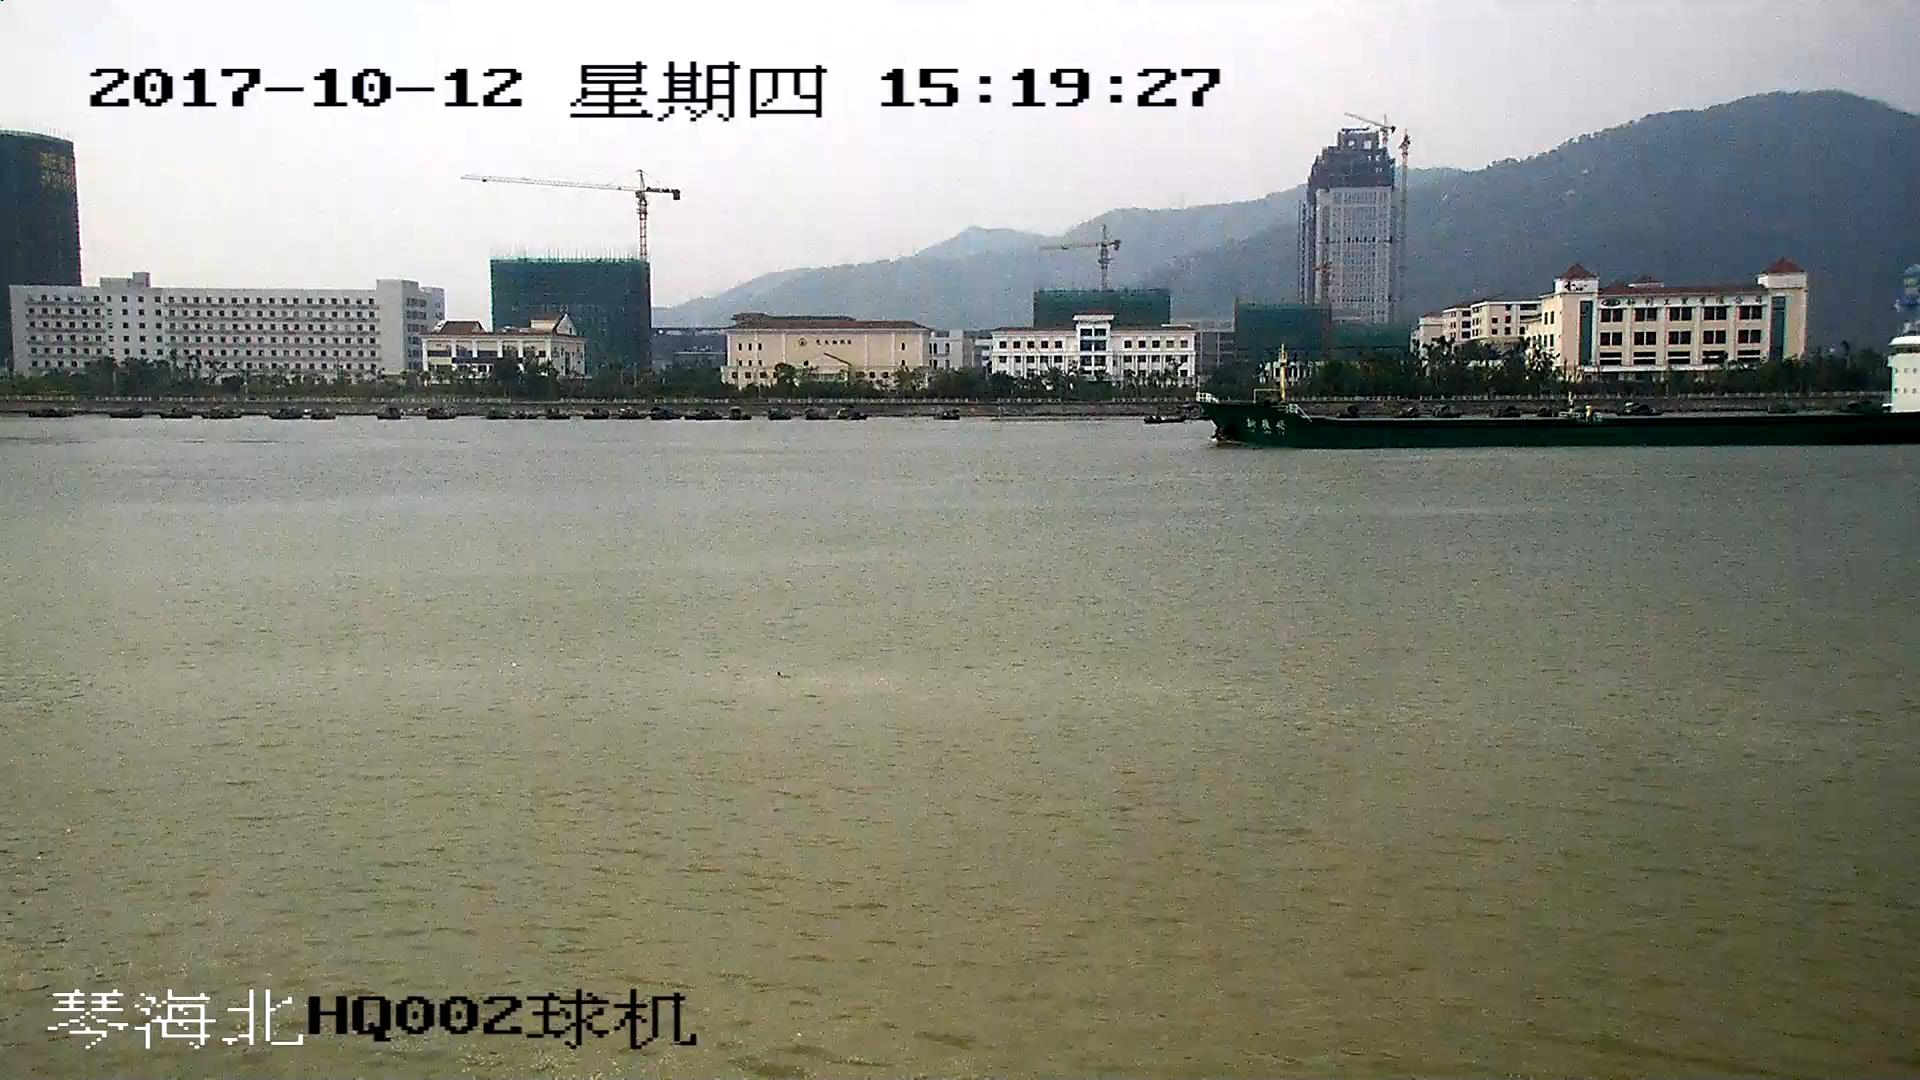general cargo ship: (1203, 328, 1920, 447)
